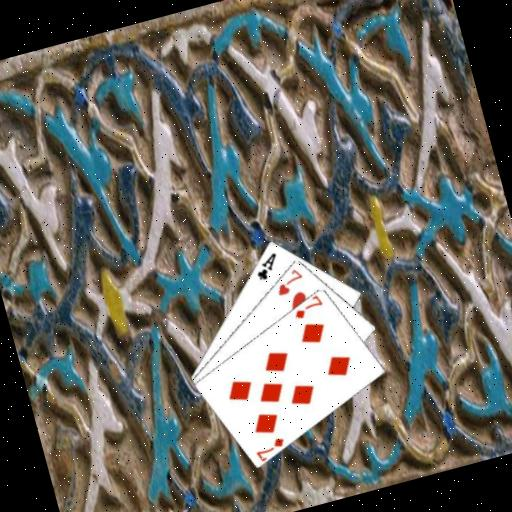7D: (287, 291, 327, 321), (250, 432, 289, 462)
7H: (270, 264, 308, 298)
AC: (248, 248, 283, 283)
